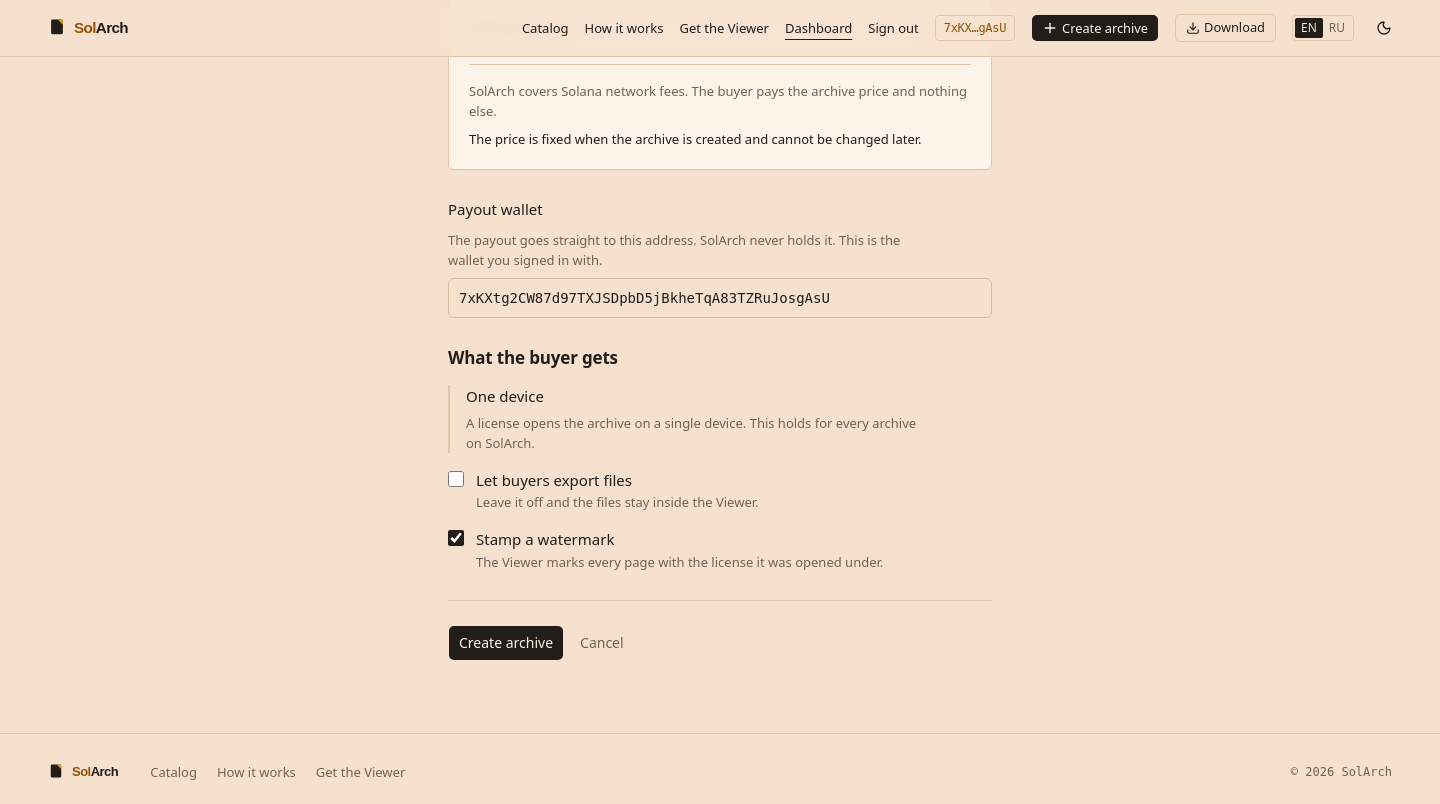
Scenario: проверка формы › называет незаполненные поля и не идёт на сервер
(page scrolled)
Click the button "Create archive". click: (506, 643)
box: x1=448 y1=625 x2=564 y2=661
(page scrolled)
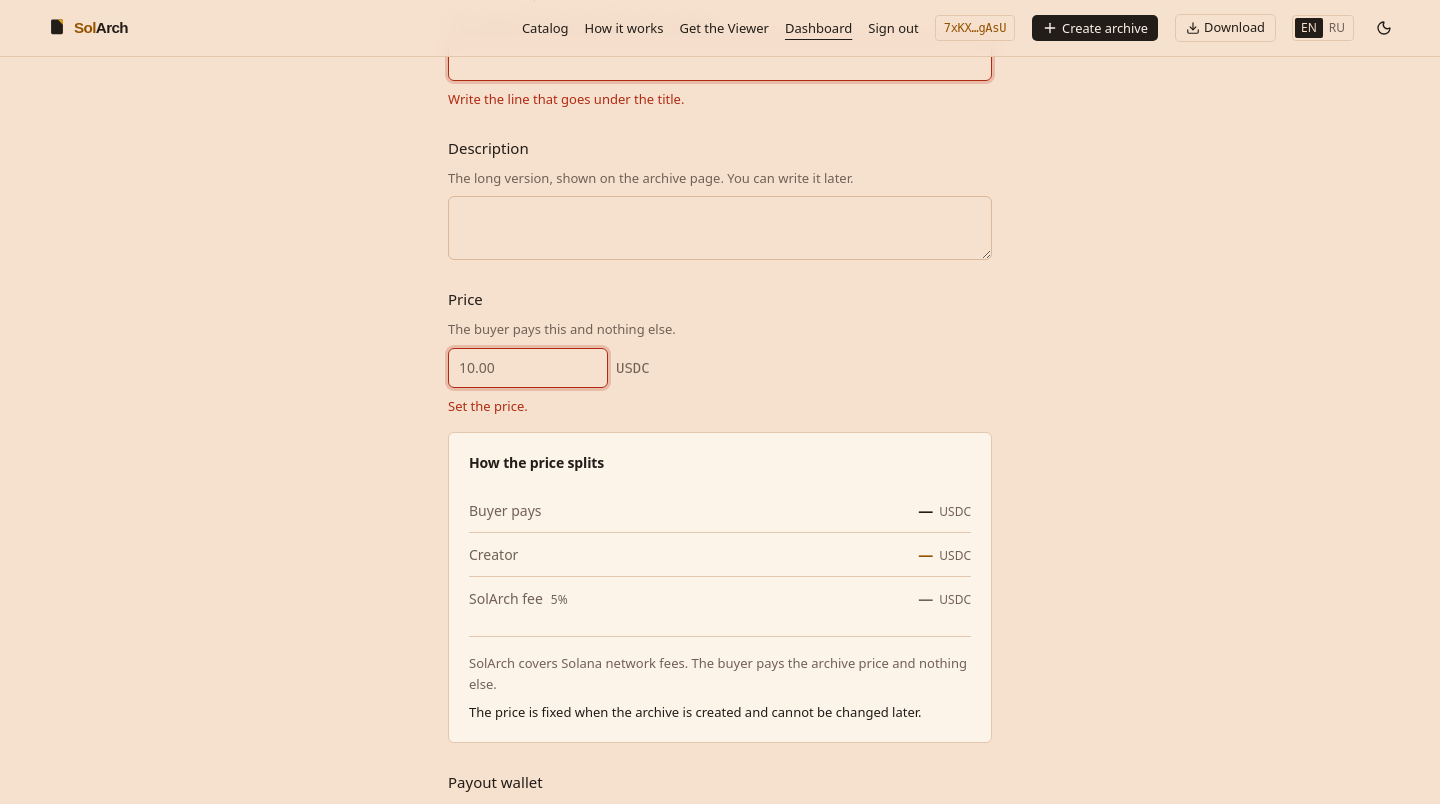
Expected: the text "Write the line that goes under the title." is shown, x1=448 y1=90 x2=684 y2=108
Expected: the text "Set the price." is shown, x1=448 y1=396 x2=528 y2=414
